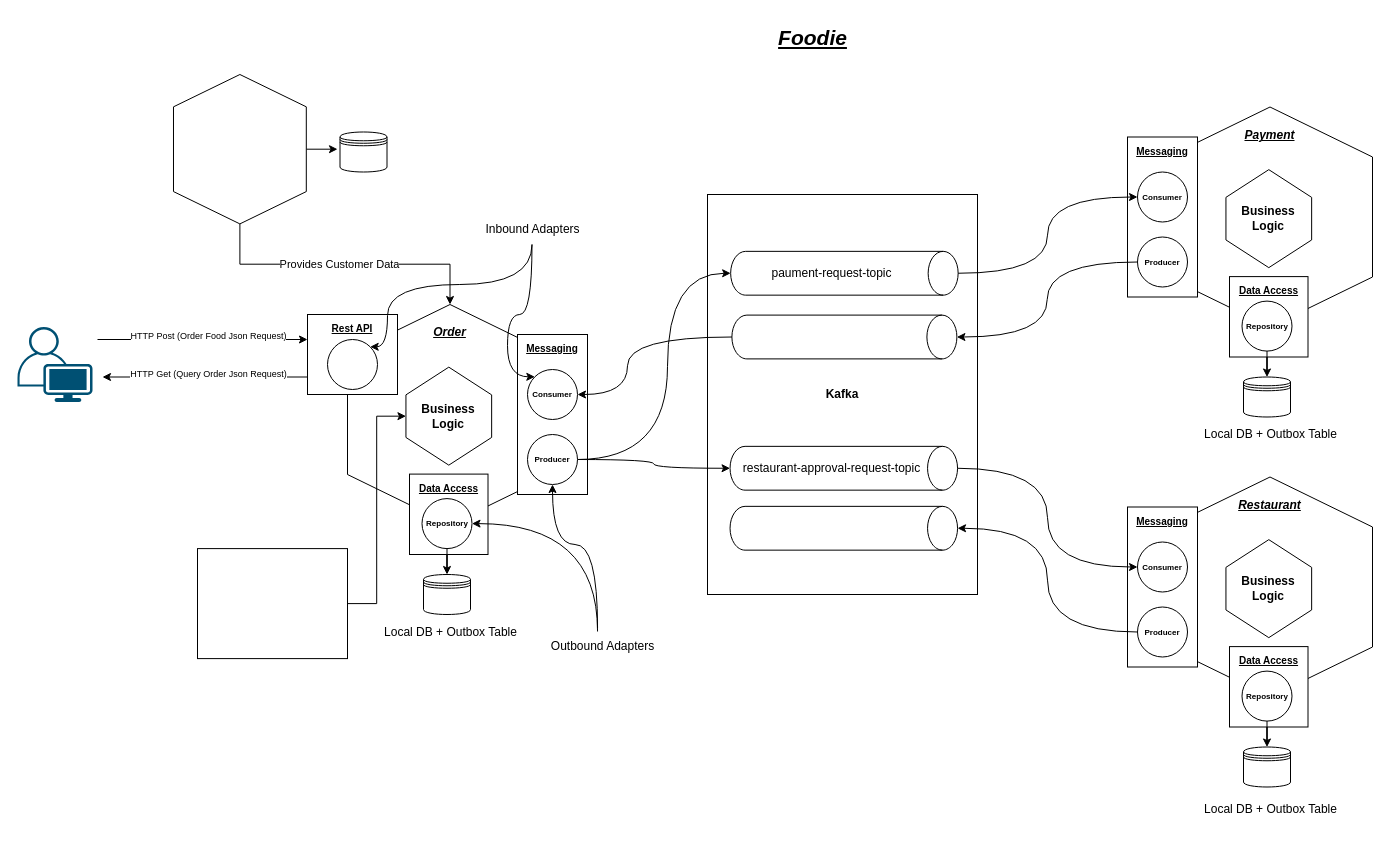
This 1390x841 diagram has some shape labels left out. Here are the shapes that lost their labels. From the top down, the centre of each, then its label:
At point (239, 149): "Customer".
At point (844, 336): "paument-response-topic".
At point (352, 364): "Controller".
At point (843, 527): "restaurant-approval-response-topic".
At point (272, 603): "Aggregates Entities Value Objects Domain Services Domain Events".
